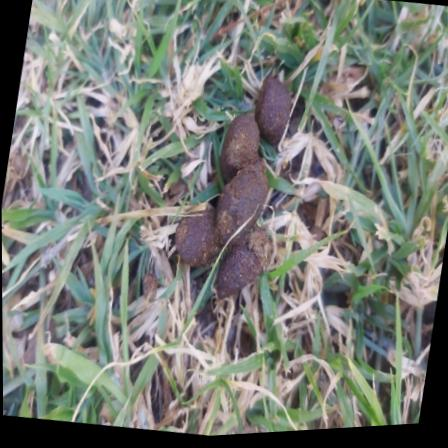dog-poop: (154, 57, 315, 310)
